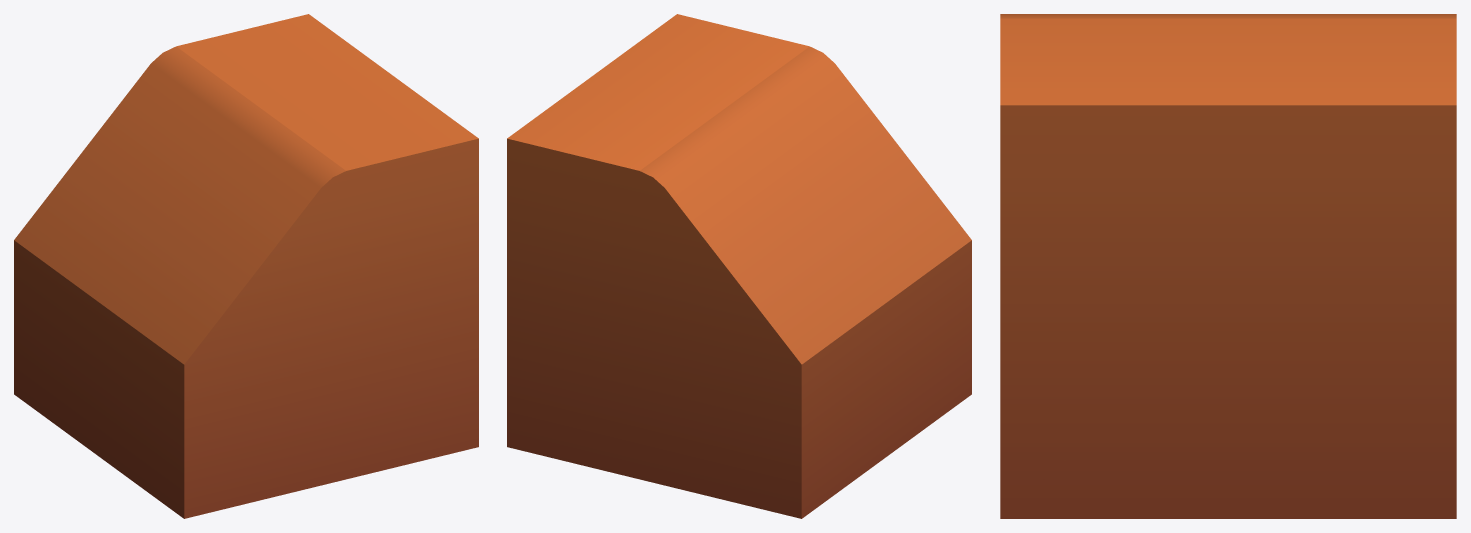
File: kaykit_terrain_slope_v01.glb
The picture shows the model from 3 angles, left to right: view 1: azimuth 30°, elevation 25°; view 2: azimuth 150°, elevation 25°; view 3: azimuth 270°, elevation 25°; orthographic projection. The views are drawn at different scales.
Visible parts, largest first — view 1: terrain_slope; view 2: terrain_slope; view 3: terrain_slope.
Boxes of the visible parts, bbox=[...] form: terrain_slope: bbox=[14, 14, 478, 518]; terrain_slope: bbox=[507, 14, 971, 518]; terrain_slope: bbox=[1000, 14, 1456, 518].
Bounding box in the file's own units: 2 × 2 × 2.
1 material, 1 textured.
